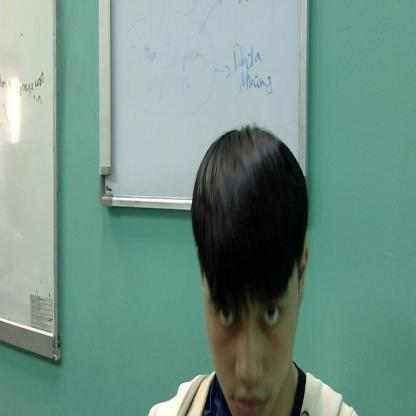Open-Eyes: (208, 288, 288, 338)
